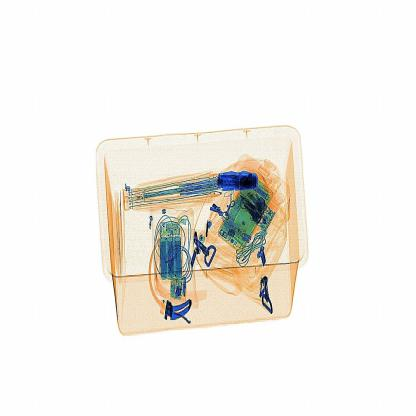scissors: (211, 162, 265, 192)
